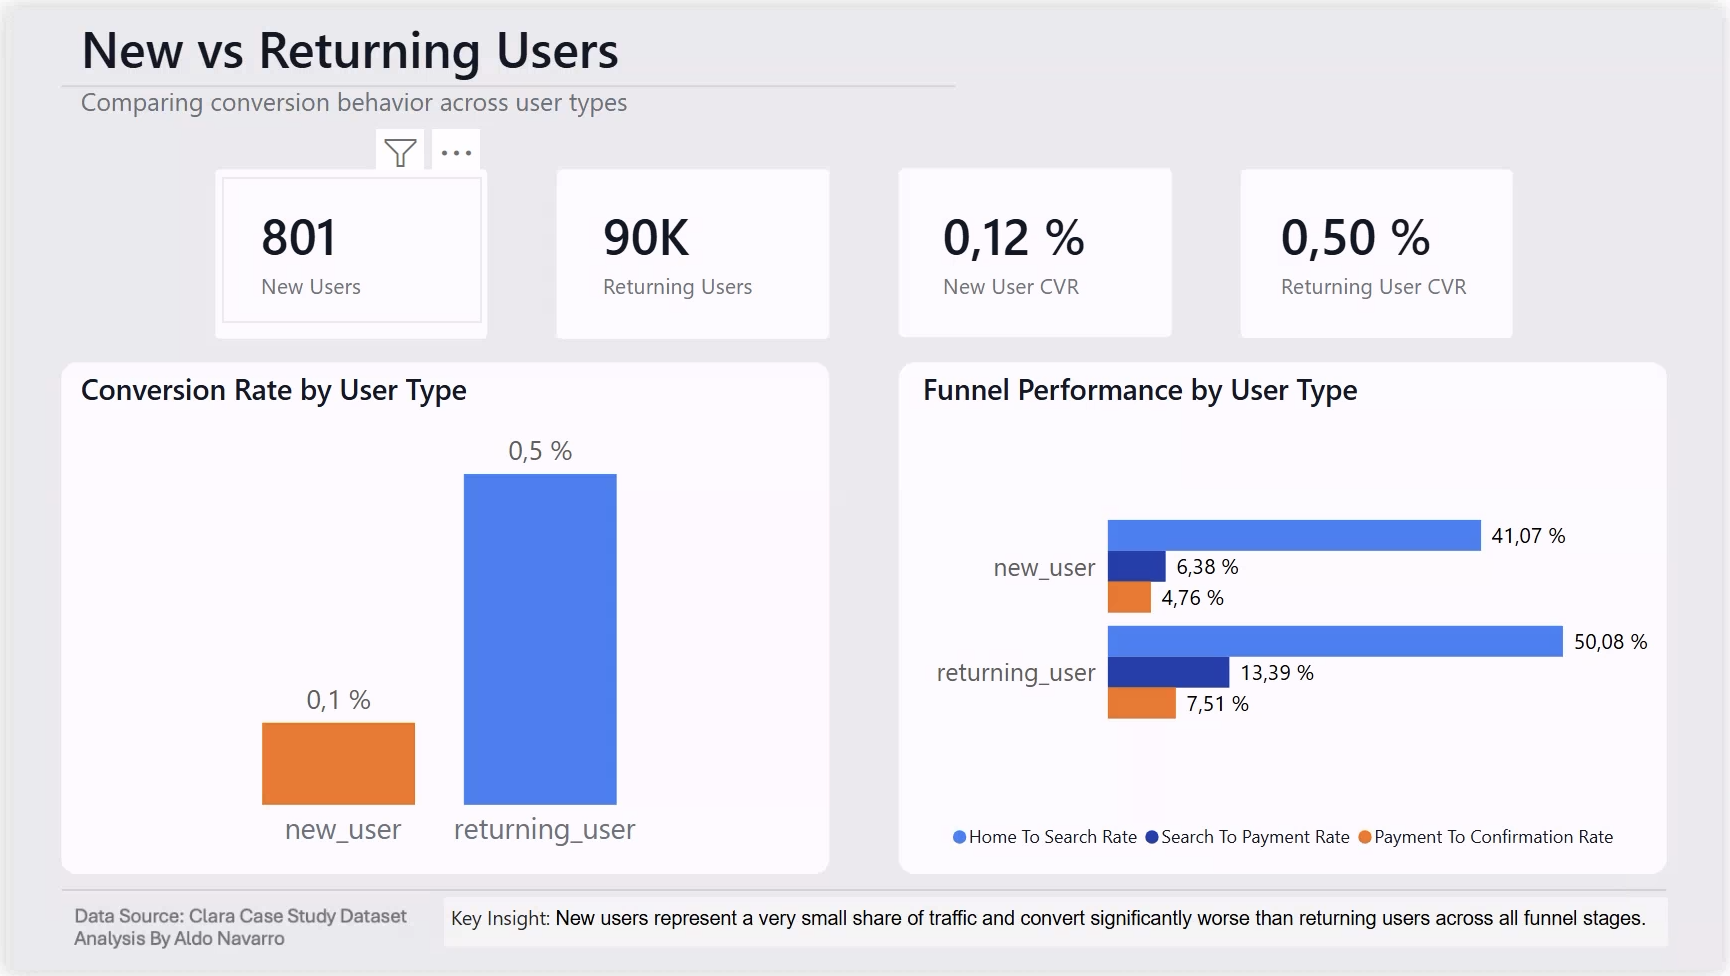

This screenshot's page, from the dashboard's own definition file:
{"tool":"powerbi","page":{"name":"New VS Returning Users","canvas":[1280,720],"ordinal":1},"visuals":[{"type":"clusteredColumnChart","title":"Conversion Rate by User Type","fields":{"Category":["fact_funnel.user_type"],"Y":["dax_measures.Overll Conversion Rate"]},"box":[50.6,269.4,551.8,368.2],"z":0},{"type":"clusteredBarChart","title":"Funnel Performance by User Type","fields":{"Category":["fact_funnel.user_type"],"Y":["dax_measures.Home To Search Rate","dax_measures.Search To Payment Rate","dax_measures.Payment To Confirmation Rate"]},"box":[678.8,269.4,551.8,368.2],"z":1000},{"type":"textbox","box":[50,0,435.9,64.1],"z":2000},{"type":"textbox","box":[50.6,52.9,541.2,43.5],"z":3000},{"type":"cardVisual","fields":{"Data":["dax_measures.New Users"]},"box":[161.2,127.1,194.1,108.2],"z":4000},{"type":"cardVisual","fields":{"Data":["dax_measures.New User CVR"]},"box":[669.4,127.1,194.1,108.2],"z":5000},{"type":"cardVisual","fields":{"Data":["dax_measures.Returning User CVR"]},"box":[922.4,127.1,200,108.2],"z":6000},{"type":"cardVisual","fields":{"Data":["dax_measures.Returning Users"]},"box":[416.5,127.1,194.1,108.2],"z":7000},{"type":"textbox","box":[327,664,913.7,37],"z":8000}]}

Visuals, with their boxes in screenshot pixels (x1, y1, x2, y2), scaled from the page's 1280x720 canvas onto the 1730x976 screenshot:
"Conversion Rate by User Type" clusteredColumnChart: {"x1": 68, "y1": 365, "x2": 814, "y2": 864}
"Funnel Performance by User Type" clusteredBarChart: {"x1": 917, "y1": 365, "x2": 1663, "y2": 864}
textbox: {"x1": 68, "y1": 0, "x2": 657, "y2": 87}
textbox: {"x1": 68, "y1": 72, "x2": 800, "y2": 131}
cardVisual - dax_measures.New Users: {"x1": 218, "y1": 172, "x2": 480, "y2": 319}
cardVisual - dax_measures.New User CVR: {"x1": 905, "y1": 172, "x2": 1167, "y2": 319}
cardVisual - dax_measures.Returning User CVR: {"x1": 1247, "y1": 172, "x2": 1517, "y2": 319}
cardVisual - dax_measures.Returning Users: {"x1": 563, "y1": 172, "x2": 825, "y2": 319}
textbox: {"x1": 442, "y1": 900, "x2": 1677, "y2": 950}
